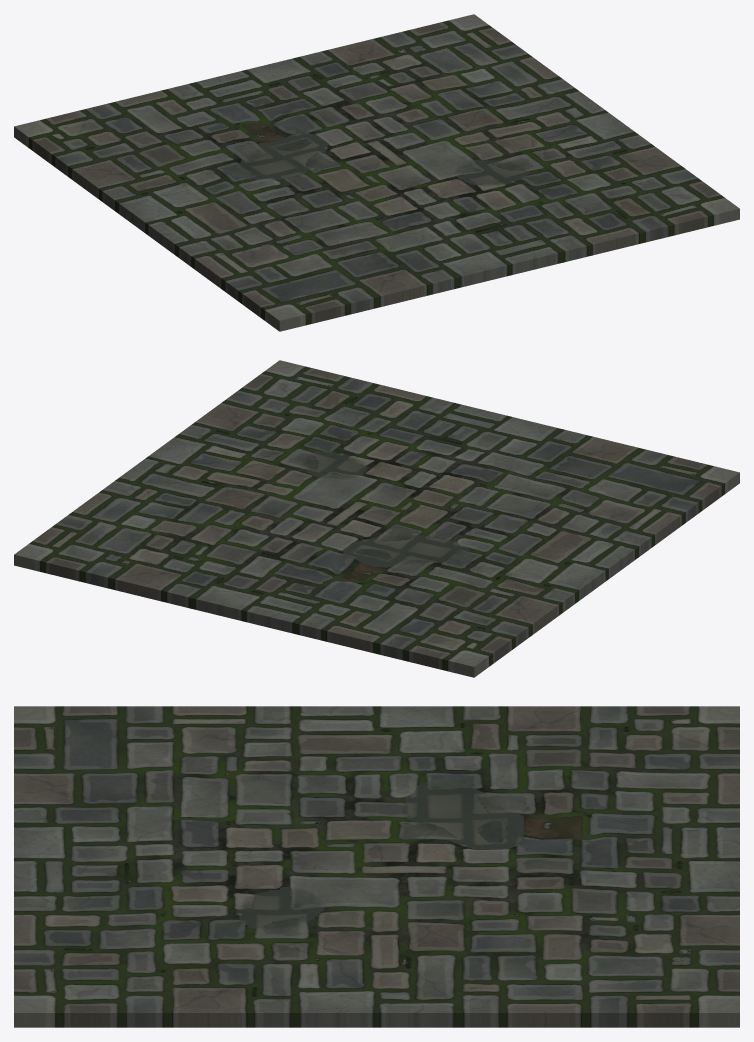
File: sunken_floor_a.glb
3 views of the same model, one above another, from view 1: azimuth 30°, elevation 25°; view 2: azimuth 150°, elevation 25°; view 3: azimuth 270°, elevation 25° (orthographic). The views are drawn at different scales.
Parts seen in each view (by area): view 1: sunken_floor_a; view 2: sunken_floor_a; view 3: sunken_floor_a.
Part boxes in pixels (<box>): sunken_floor_a: <box>14,14,739,331</box>; sunken_floor_a: <box>14,360,739,677</box>; sunken_floor_a: <box>14,706,739,1027</box>.
Size of the model in its own units: 4 by 0.1197 by 4.
1 material, 1 textured.
